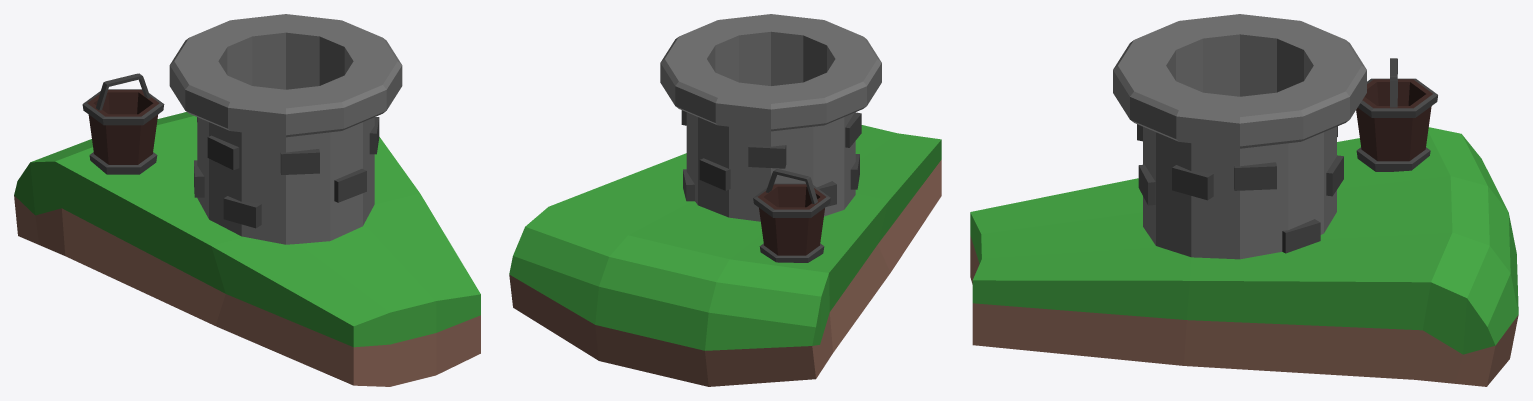
Rendered from Water.fbx.
3 views of the same model, side by side, from view 1: azimuth 30°, elevation 25°; view 2: azimuth 150°, elevation 25°; view 3: azimuth 270°, elevation 25° (orthographic). The views are drawn at different scales.
Parts seen in each view (by area): view 1: Cylinder.001; view 2: Cylinder.001; view 3: Cylinder.001.
Boxes of the visible parts, x1=… form: Cylinder.001: x1=14, y1=14, x2=480, y2=386; Cylinder.001: x1=509, y1=14, x2=941, y2=386; Cylinder.001: x1=970, y1=14, x2=1518, y2=386.
Size of the model in its own units: 158 by 115 by 218.
